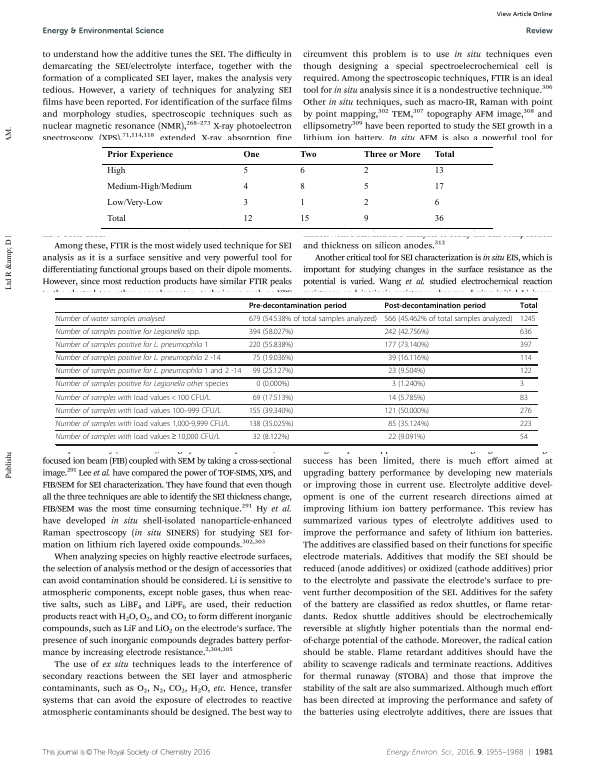borderless: (55, 297, 537, 444), (101, 145, 493, 228)
cell: (55, 419, 231, 429), (55, 367, 242, 376), (55, 406, 222, 416), (55, 353, 221, 363), (55, 432, 221, 442), (55, 380, 229, 389), (55, 340, 209, 350), (55, 327, 201, 337), (55, 393, 211, 402), (248, 314, 378, 324), (383, 314, 513, 324), (55, 314, 166, 324), (383, 301, 487, 310), (248, 301, 347, 310), (106, 182, 192, 192), (106, 149, 173, 159), (362, 149, 421, 159), (106, 198, 163, 208), (383, 327, 430, 337), (383, 340, 430, 350), (383, 406, 430, 416), (248, 327, 294, 337), (248, 340, 294, 350), (248, 406, 294, 416), (248, 419, 294, 429), (387, 353, 430, 363), (387, 419, 430, 429), (252, 353, 294, 363), (387, 432, 426, 442), (252, 432, 290, 442), (252, 367, 294, 376), (252, 393, 294, 402), (387, 367, 426, 376), (387, 393, 426, 402), (255, 380, 290, 389), (391, 380, 426, 389), (433, 149, 455, 159), (106, 166, 126, 176), (106, 214, 126, 224), (242, 149, 260, 159), (299, 149, 317, 159), (519, 301, 538, 310), (519, 314, 536, 324), (519, 327, 533, 337), (519, 340, 533, 350), (519, 353, 533, 363), (519, 406, 533, 416), (519, 419, 533, 429), (519, 367, 533, 376), (433, 166, 444, 176), (433, 182, 444, 192), (242, 214, 253, 224), (299, 214, 310, 224), (433, 214, 444, 224), (519, 432, 529, 442), (519, 393, 529, 402), (362, 166, 369, 176), (362, 182, 369, 192), (362, 198, 369, 208), (433, 198, 440, 208), (362, 214, 369, 224), (242, 166, 248, 176), (299, 166, 305, 176), (242, 182, 248, 192), (299, 182, 305, 192), (242, 198, 248, 208), (299, 198, 305, 208), (519, 380, 525, 389)
